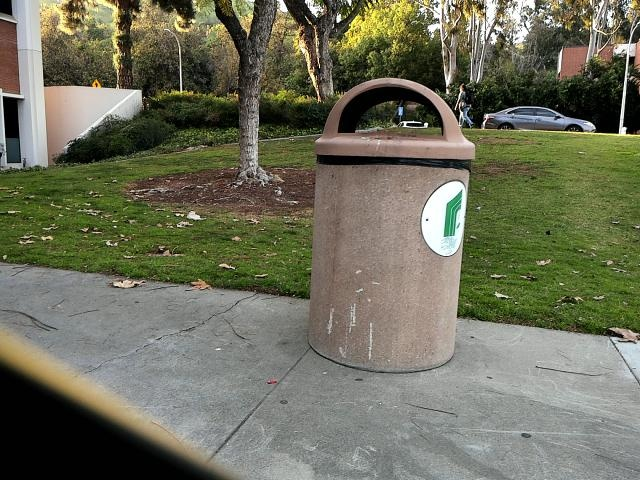trashcan: (294, 72, 491, 381)
